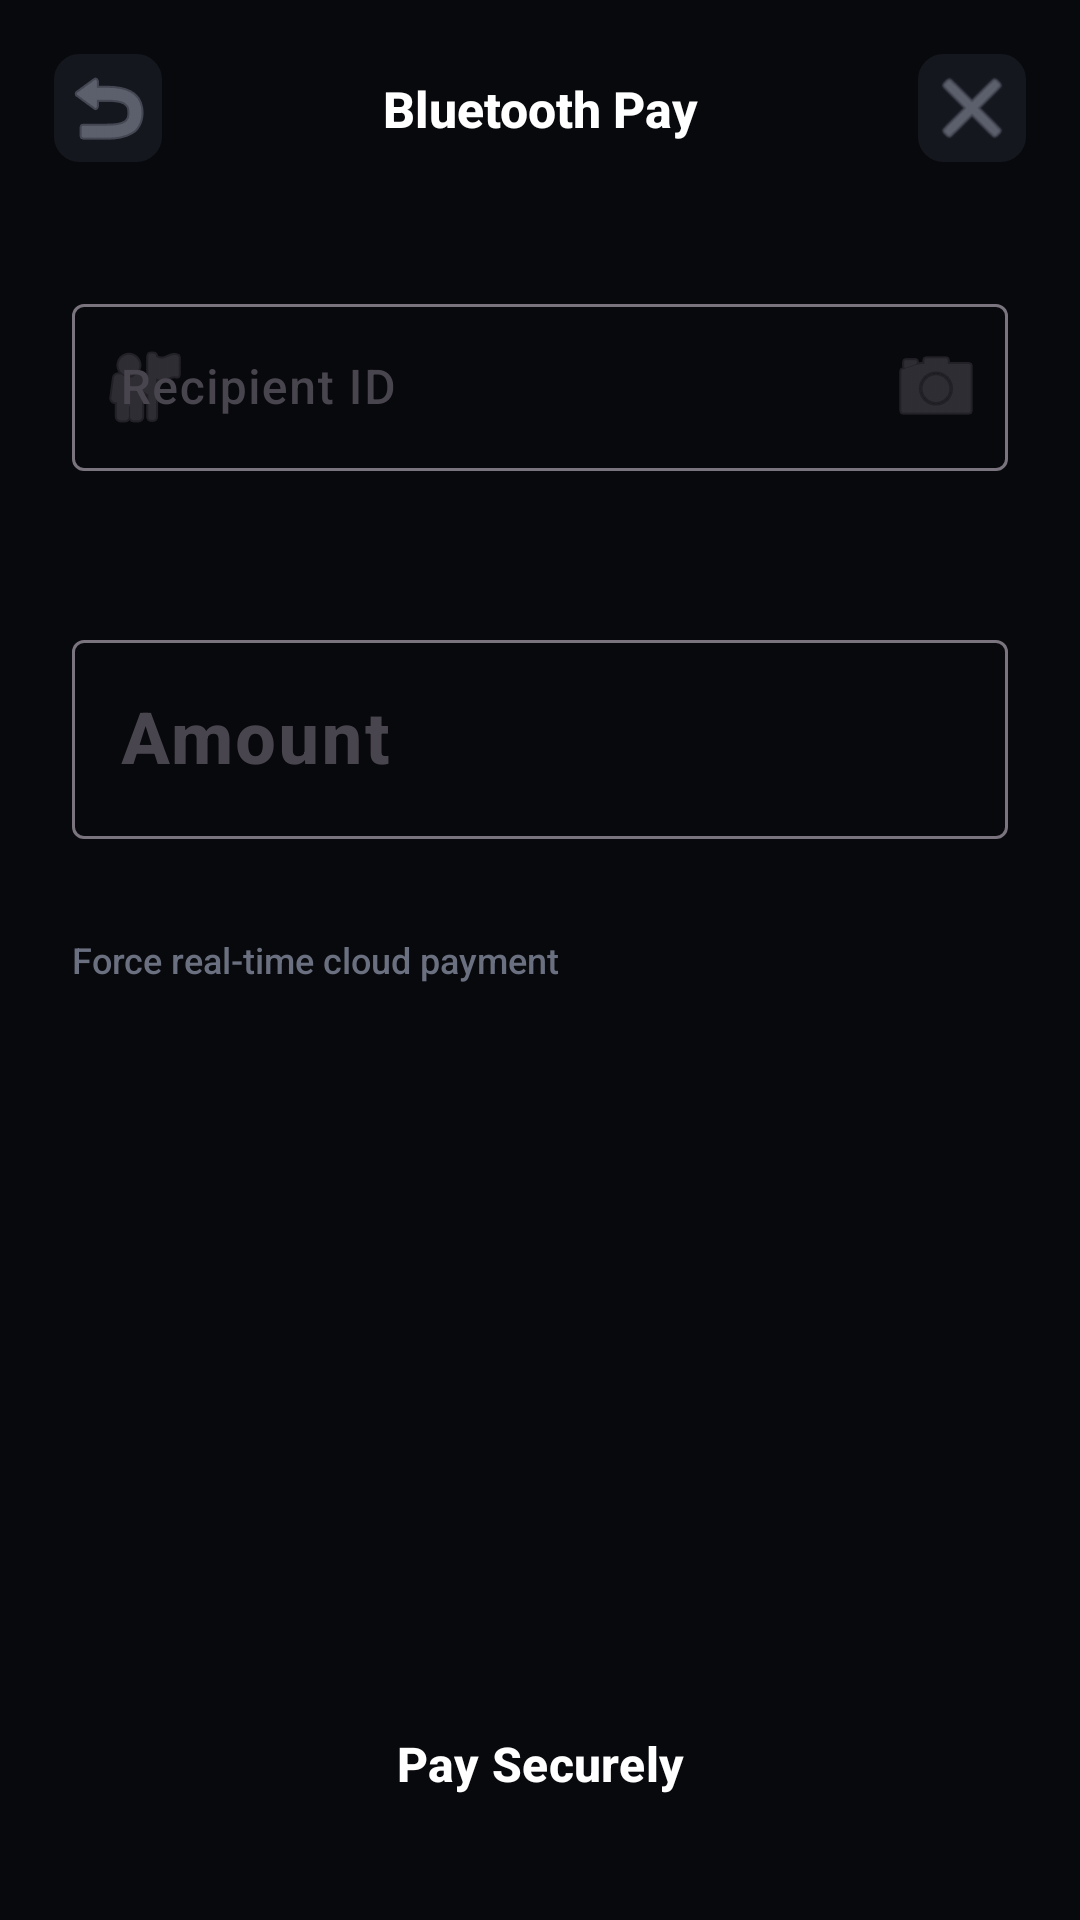

Screen size 1080w x 1920h. Icon name, then its center in pixels as [x,y]:
Back: [109,108]
Close: [971,108]
